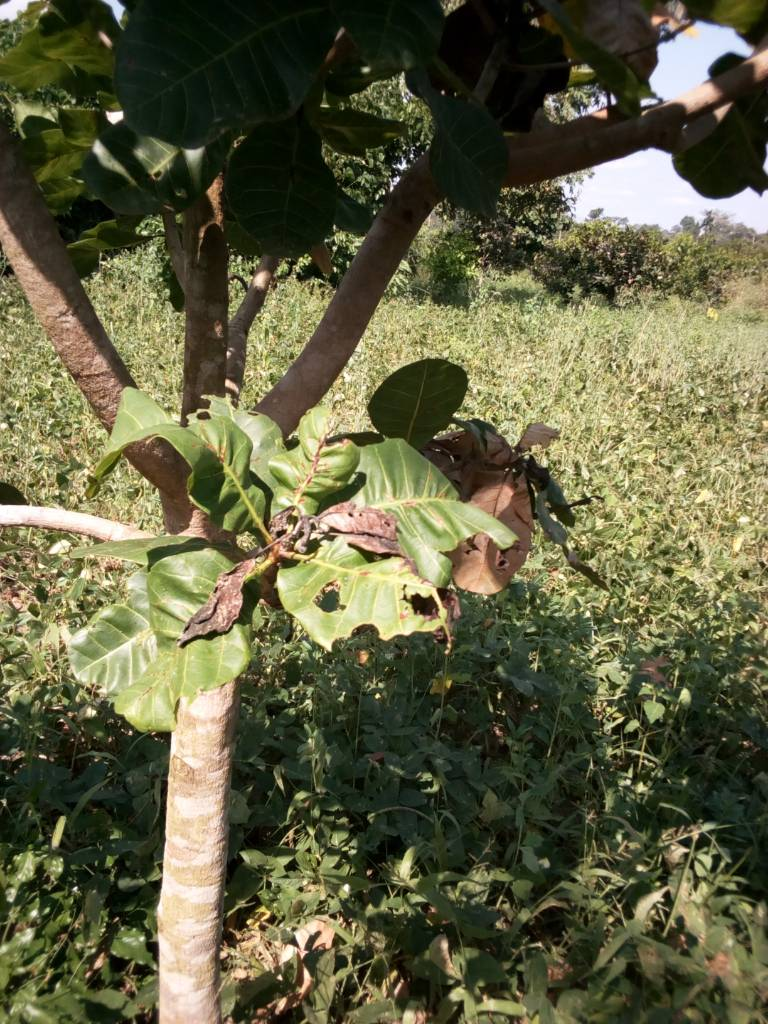Dessèchement des bourgeons: (185, 542, 282, 641), (318, 502, 394, 549)
